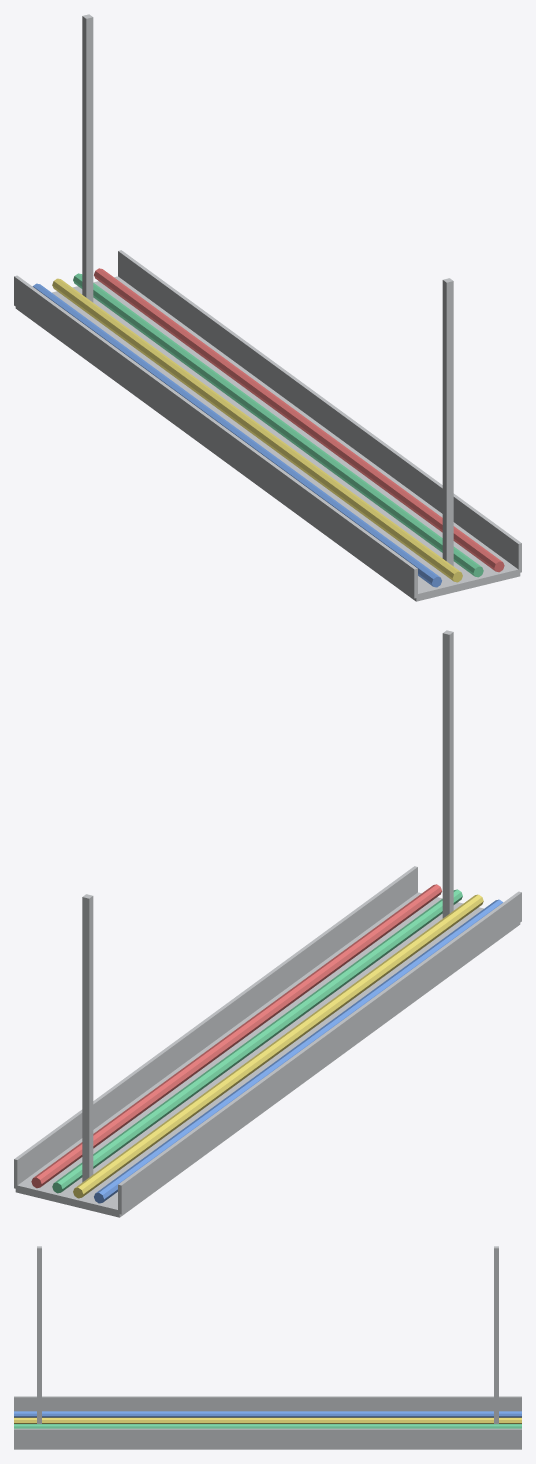
The model's file is charola_cables.glb.
3 views of the same model, one above another, from view 1: azimuth 30°, elevation 25°; view 2: azimuth 150°, elevation 25°; view 3: azimuth 270°, elevation 25° (orthographic). The views are drawn at different scales.
Visible parts, largest first — view 1: charola_cables; view 2: charola_cables; view 3: charola_cables.
Part boxes in pixels (x1,y1,x2,y2): charola_cables: (14, 14, 521, 601); charola_cables: (14, 630, 521, 1217); charola_cables: (14, 1246, 521, 1449).
Size of the model in its own units: 0.31 by 0.81 by 2.
